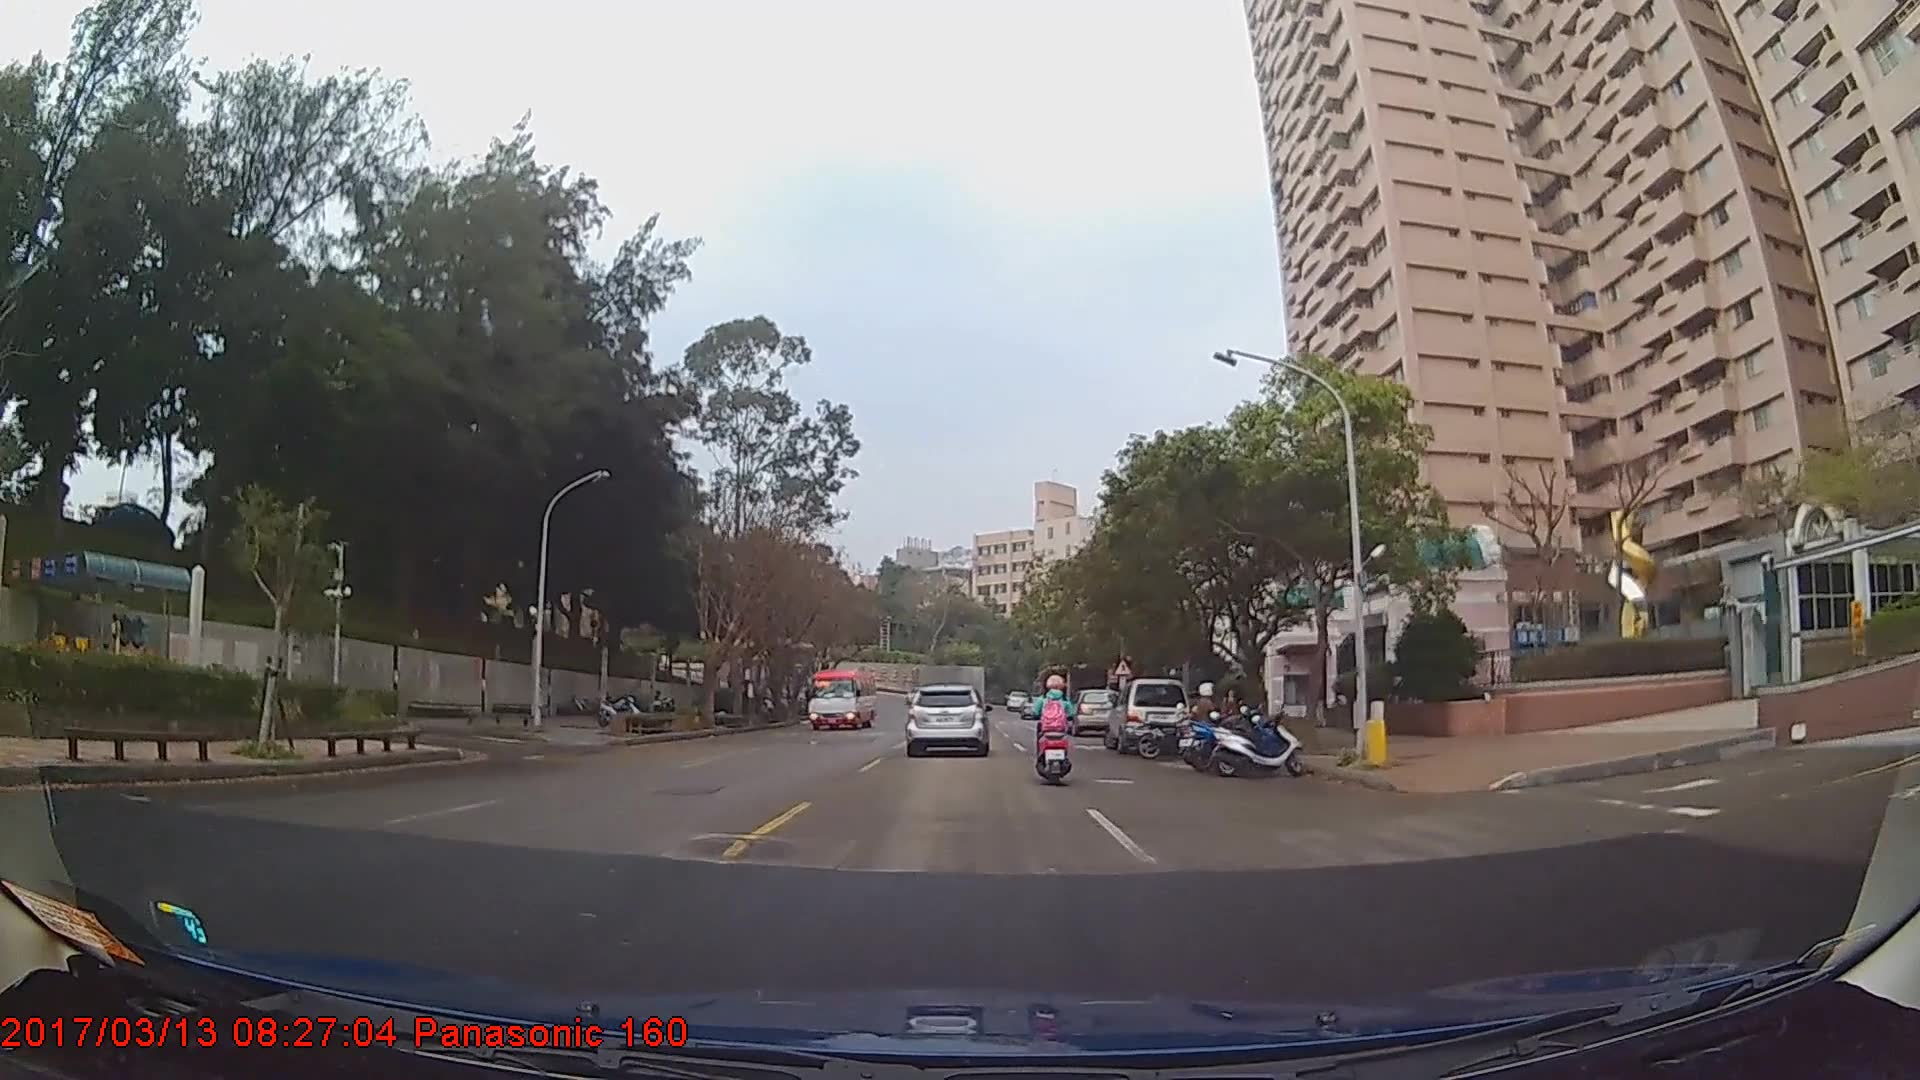rider: (1034, 672, 1082, 789), (1182, 679, 1231, 763)
vehicle: (1103, 677, 1192, 751), (904, 681, 987, 758), (806, 664, 877, 729), (1069, 686, 1120, 734)
